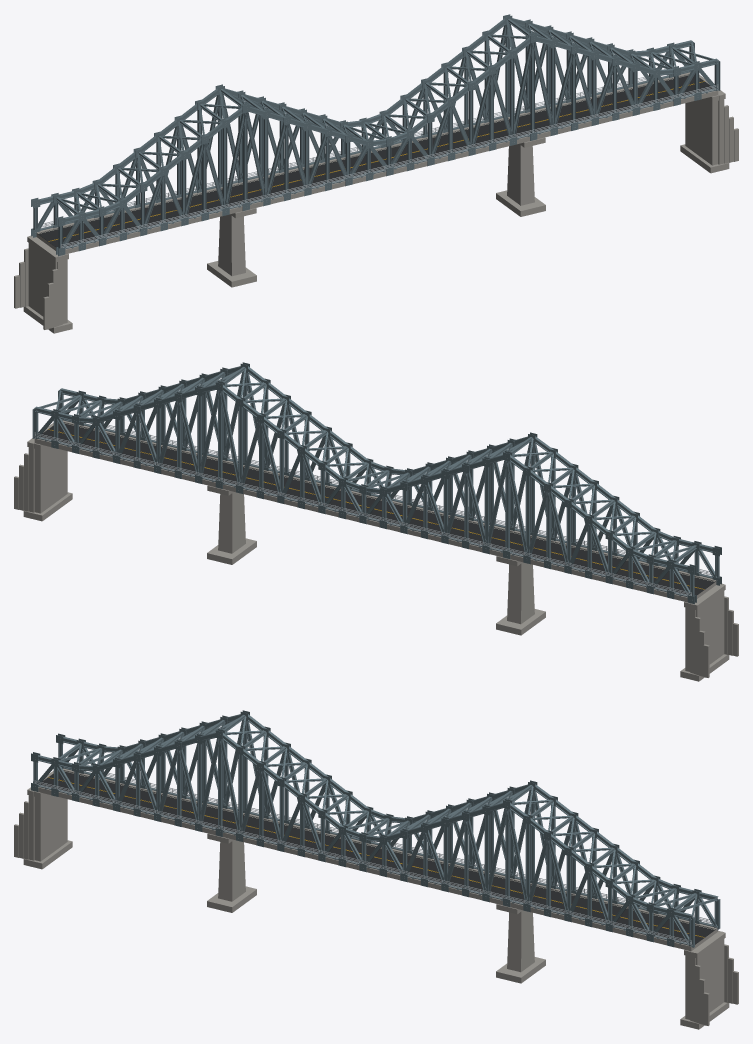
File: cantilever.obj
3 renders of one model, top to bottom at view 1: azimuth 30°, elevation 25°; view 2: azimuth 150°, elevation 25°; view 3: azimuth 330°, elevation 25°, orthographic.
Parts seen in each view (by area): view 1: truss@paintedSteel, asphalt.bridge@asphalt, connection@paintedSteel, abutment@concrete, railing@galvanizedSteel, pier@concrete, deck@concrete, footing@concrete, sidewalk@concrete, cap@concrete; view 2: truss@paintedSteel, asphalt.bridge@asphalt, connection@paintedSteel, abutment@concrete, railing@galvanizedSteel, pier@concrete, deck@concrete, footing@concrete, sidewalk@concrete, cap@concrete; view 3: truss@paintedSteel, asphalt.bridge@asphalt, connection@paintedSteel, abutment@concrete, railing@galvanizedSteel, pier@concrete, deck@concrete, footing@concrete, sidewalk@concrete, cap@concrete.
Boxes of the visible parts, bbox=[...] form: truss@paintedSteel: bbox=[33, 18, 720, 249]; asphalt.bridge@asphalt: bbox=[37, 74, 712, 247]; connection@paintedSteel: bbox=[31, 14, 719, 256]; abutment@concrete: bbox=[14, 76, 738, 329]; railing@galvanizedSteel: bbox=[41, 74, 718, 248]; pier@concrete: bbox=[218, 144, 534, 276]; deck@concrete: bbox=[36, 91, 718, 254]; footing@concrete: bbox=[23, 144, 729, 333]; sidewalk@concrete: bbox=[36, 72, 718, 250]; cap@concrete: bbox=[27, 75, 725, 262]; truss@paintedSteel: bbox=[32, 366, 719, 597]; asphalt.bridge@asphalt: bbox=[40, 422, 715, 595]; connection@paintedSteel: bbox=[33, 362, 721, 604]; abutment@concrete: bbox=[14, 424, 738, 677]; railing@galvanizedSteel: bbox=[34, 422, 711, 596]; pier@concrete: bbox=[218, 492, 534, 624]; deck@concrete: bbox=[34, 439, 716, 602]; footing@concrete: bbox=[23, 492, 729, 681]; sidewalk@concrete: bbox=[34, 420, 716, 598]; cap@concrete: bbox=[27, 423, 725, 610]; truss@paintedSteel: bbox=[33, 714, 720, 947]; asphalt.bridge@asphalt: bbox=[40, 770, 715, 944]; connection@paintedSteel: bbox=[31, 710, 701, 947]; abutment@concrete: bbox=[14, 772, 738, 1025]; railing@galvanizedSteel: bbox=[34, 770, 711, 946]; pier@concrete: bbox=[218, 840, 534, 972]; deck@concrete: bbox=[38, 788, 718, 951]; footing@concrete: bbox=[23, 840, 729, 1029]; sidewalk@concrete: bbox=[38, 768, 717, 947]; cap@concrete: bbox=[27, 771, 725, 958].
Bounding box in the file's own units: 148 × 36.68 × 11.34.
